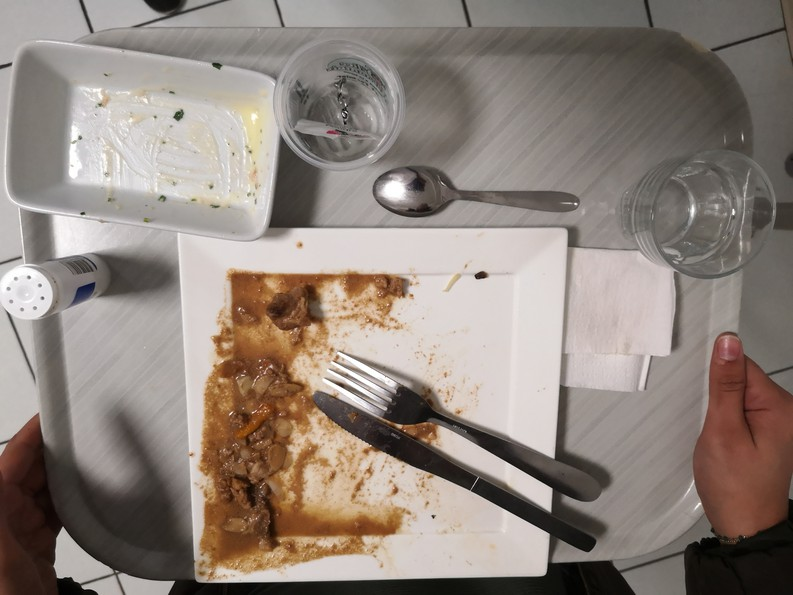cup: (630, 136, 788, 295)
cutlery: (311, 348, 620, 563), (375, 150, 590, 219)
orga: (204, 352, 296, 578)
trash: (265, 28, 419, 171), (555, 236, 680, 396), (1, 243, 119, 316)
